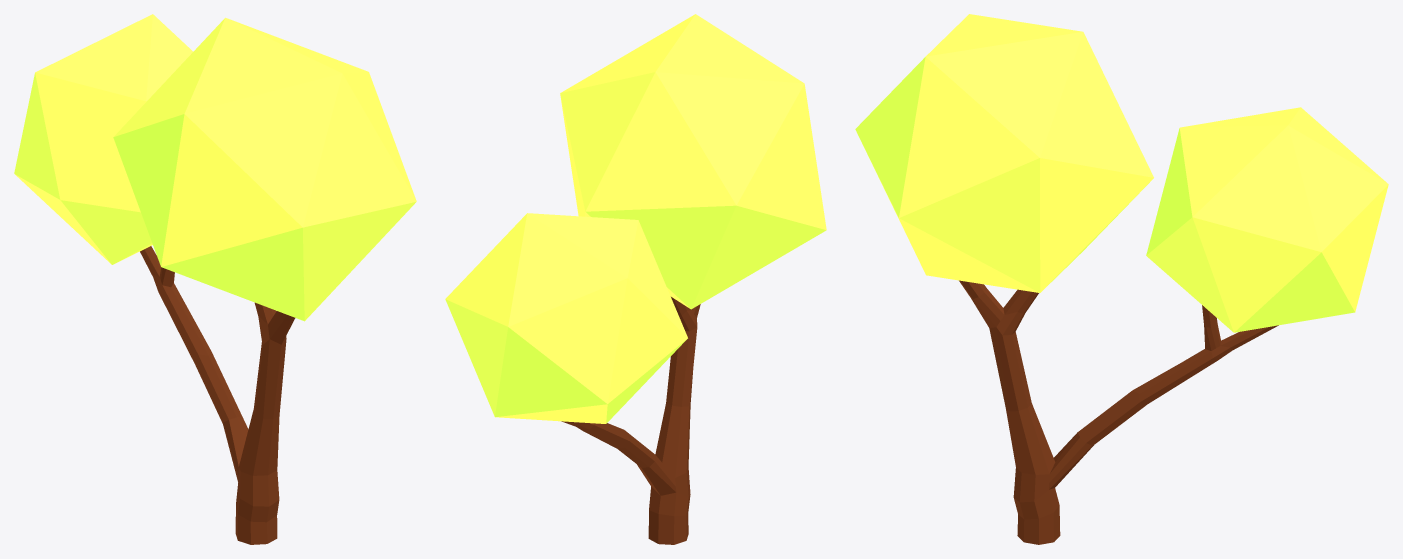
File: maple3.glb
3 views of the same model, side by side, from view 1: azimuth 30°, elevation 25°; view 2: azimuth 150°, elevation 25°; view 3: azimuth 270°, elevation 25° (orthographic). The views are drawn at different scales.
Visible parts, largest first — view 1: Tree3; view 2: Tree3; view 3: Tree3.
Boxes of the visible parts, left/top/right/bottom form: Tree3: left=14, top=14, right=416, bottom=544; Tree3: left=445, top=14, right=826, bottom=544; Tree3: left=855, top=14, right=1388, bottom=544.
Size of the model in its own units: 206 by 408 by 395.
